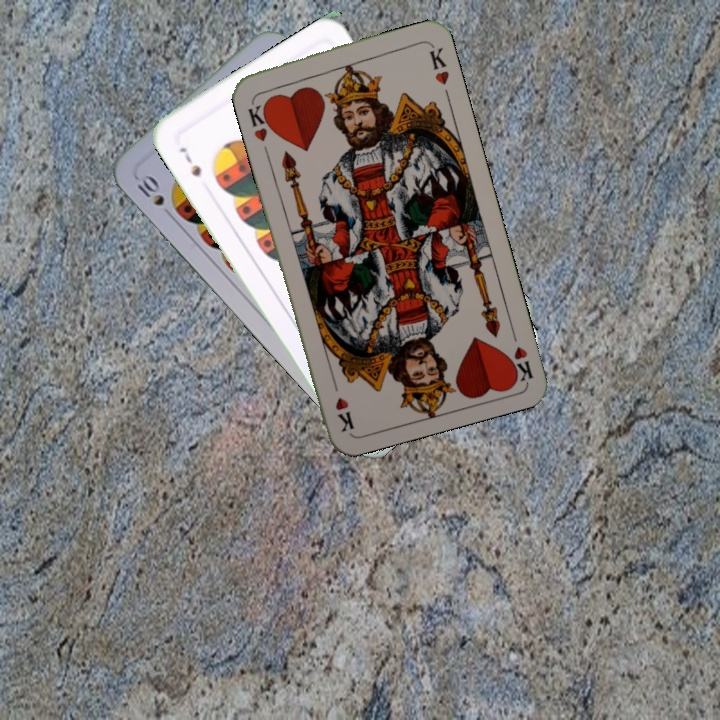HK: (503, 323, 536, 384), (244, 94, 277, 144)
S10: (133, 170, 176, 221)
S7: (175, 143, 204, 180)
